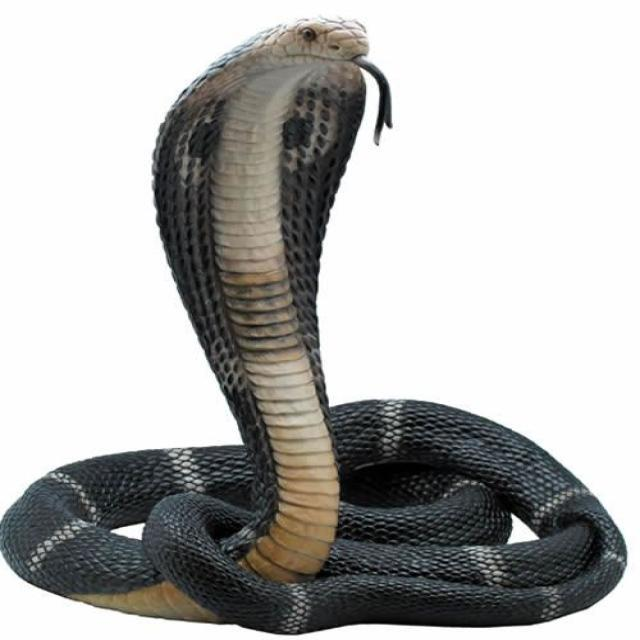Snake: (0, 10, 632, 640)
